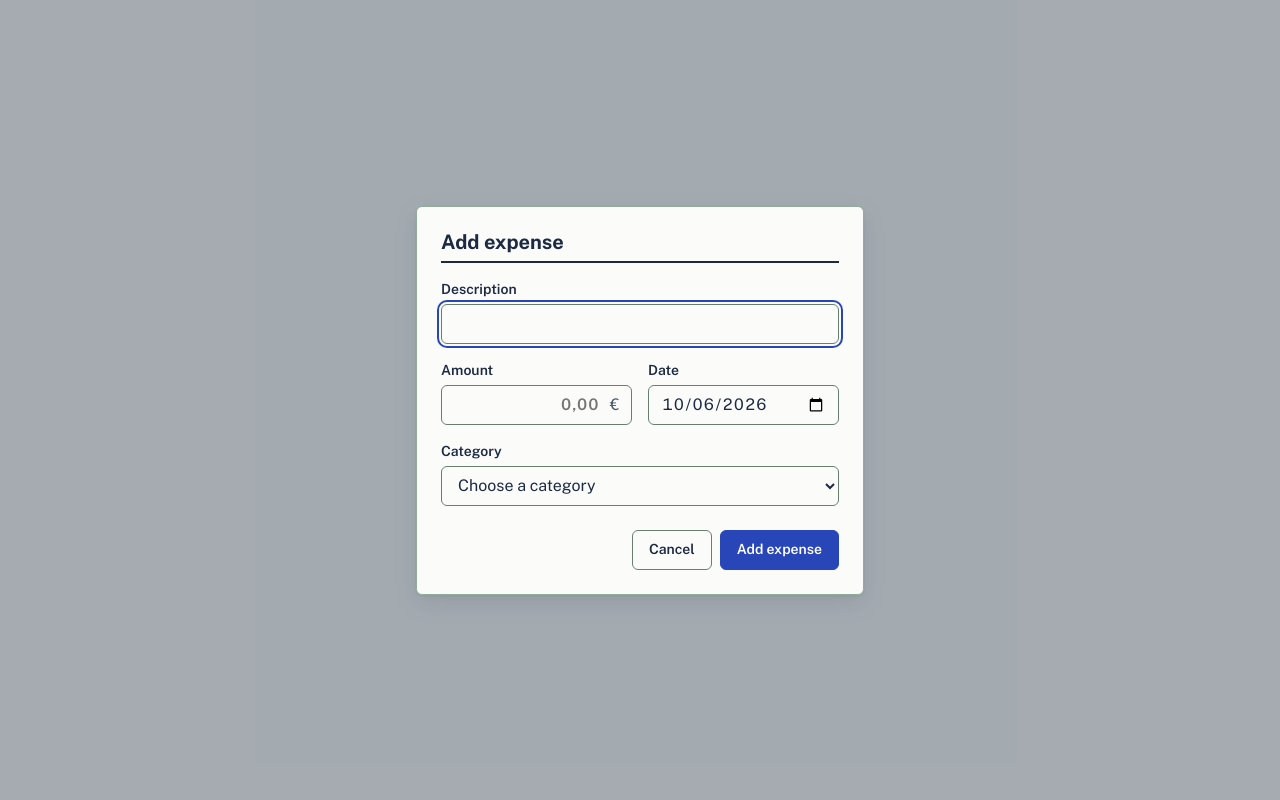
it: rejects the amount 0
The image size is (1280, 800).
In the field labelled "Description": (640, 324) left=441, top=304, right=839, bottom=344, type "Bus"
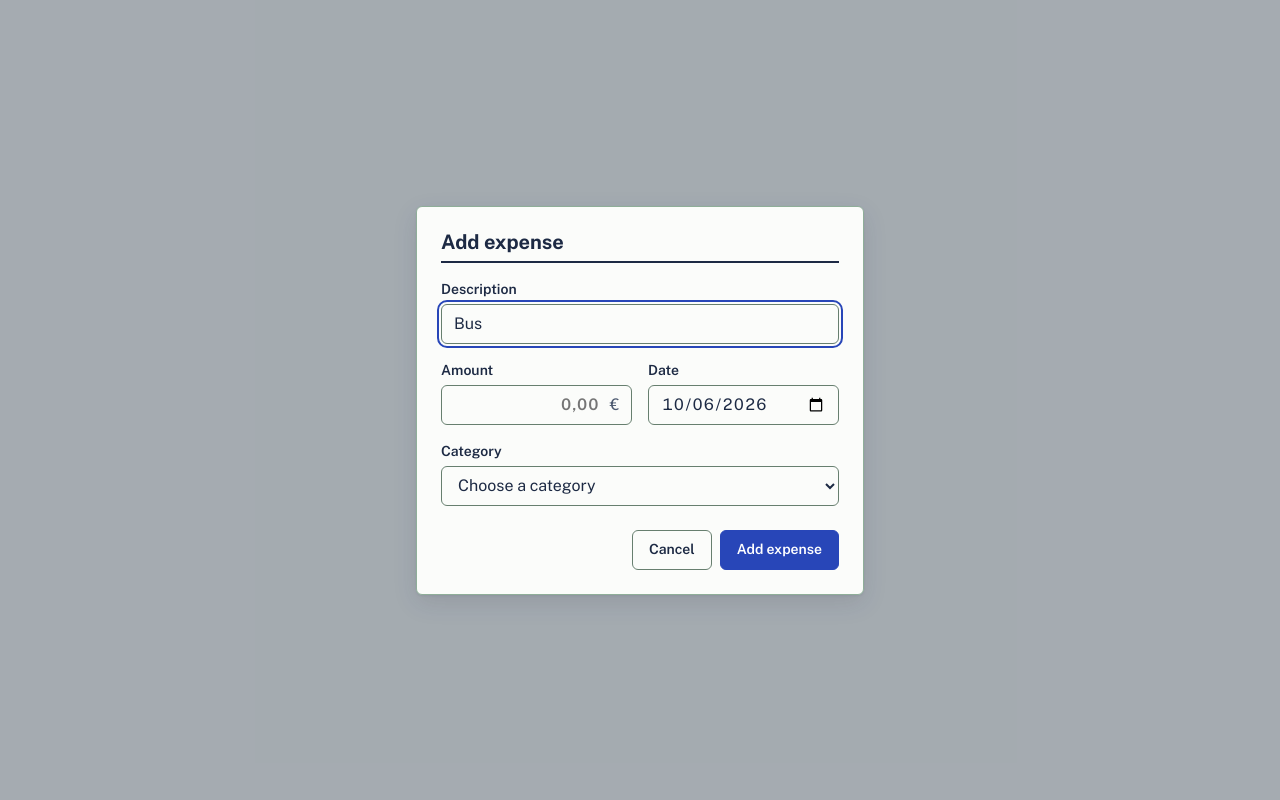
In the field labelled "Amount": (536, 404) left=441, top=384, right=632, bottom=424, type "0"
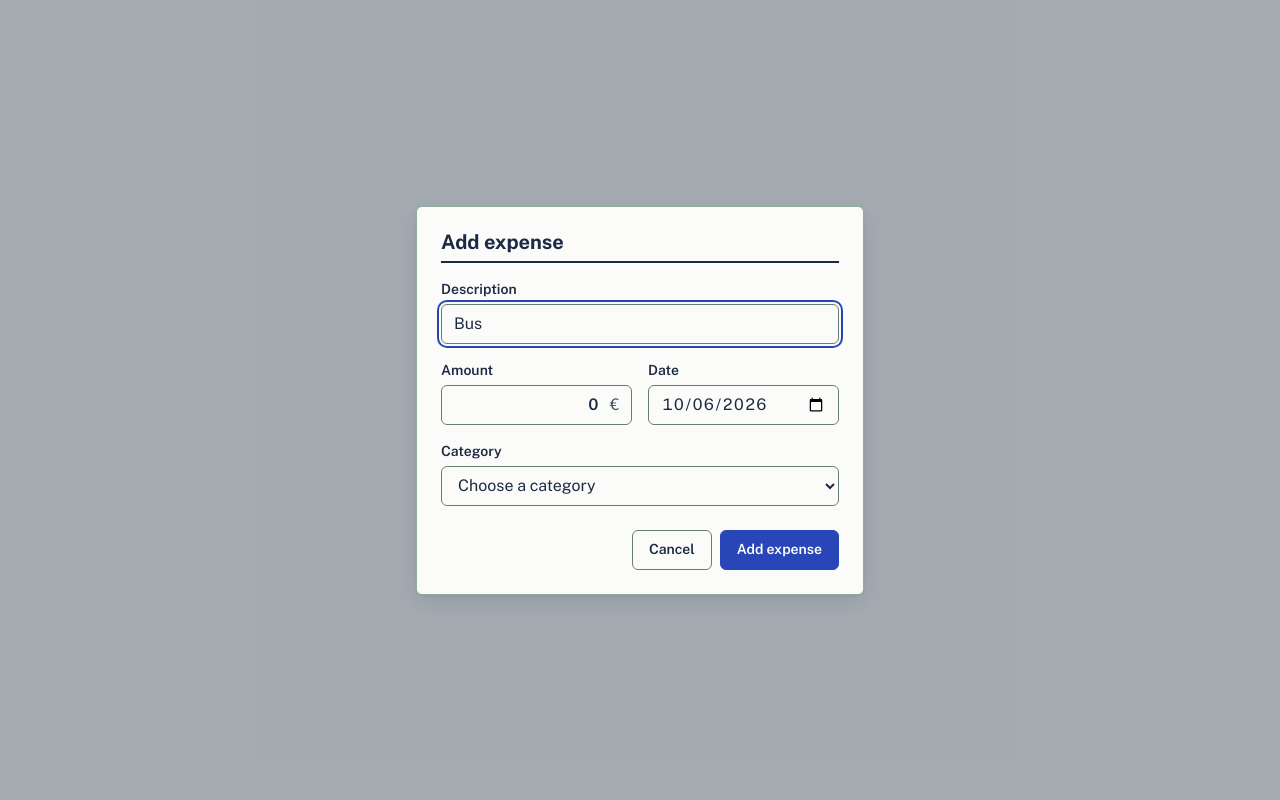
Select "Transport" in the dropdown labelled "Category": (640, 486) left=441, top=466, right=839, bottom=506
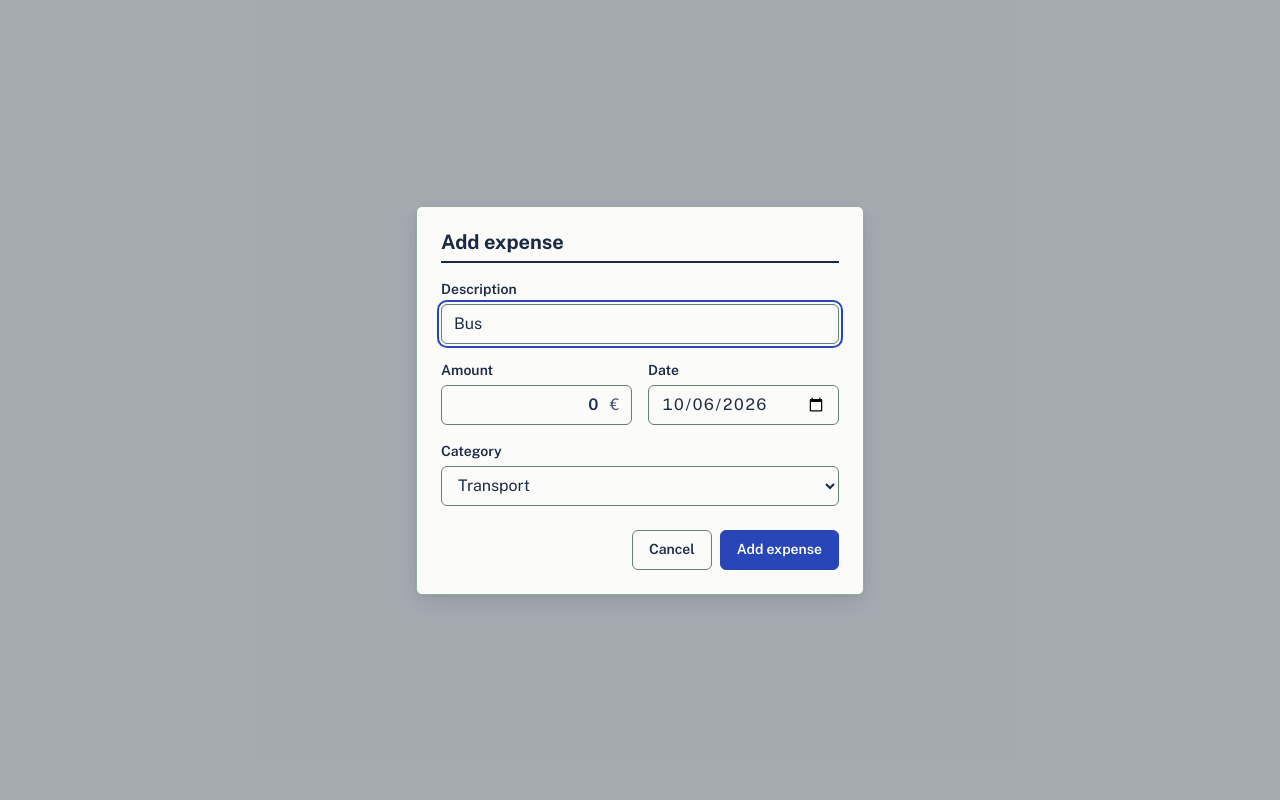
Click the button "Add expense": (779, 550) left=720, top=530, right=839, bottom=570
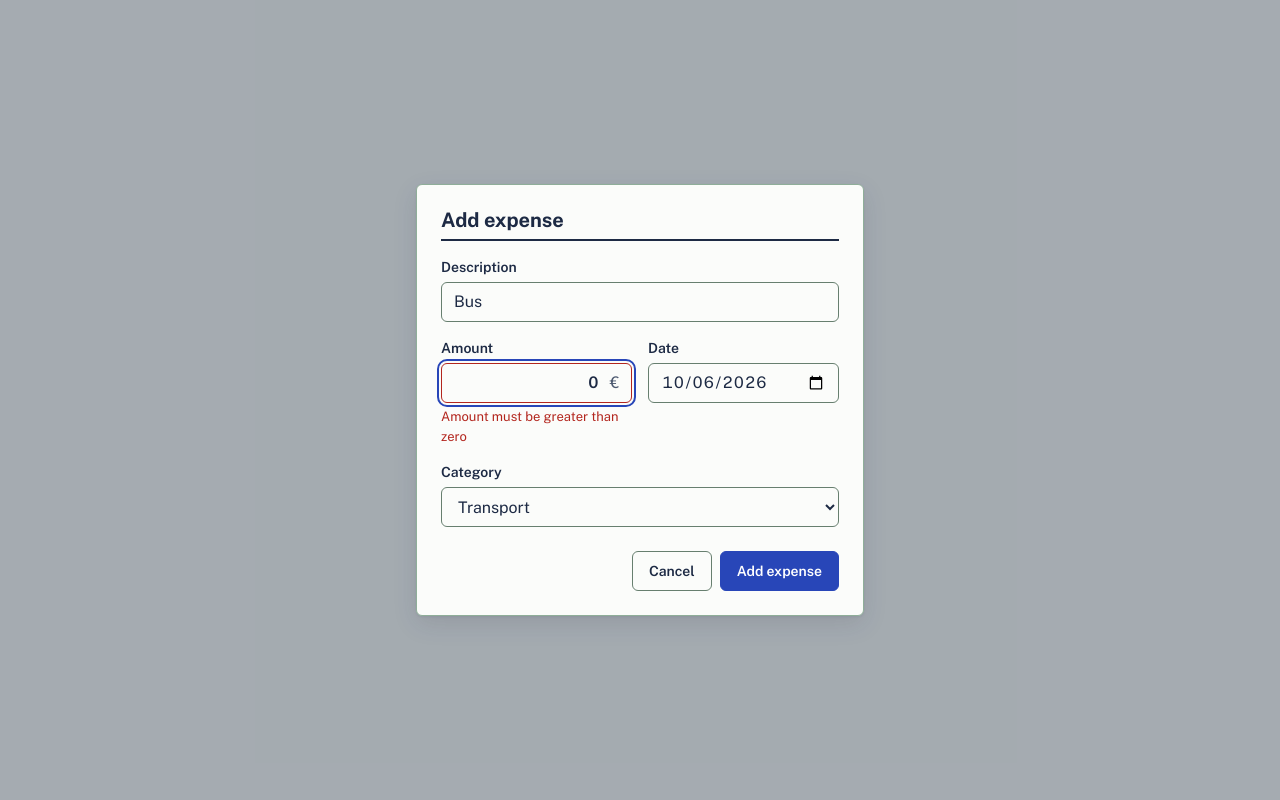
Expected: the text "Amount must be greater than zero" is shown, left=441, top=407, right=632, bottom=446
